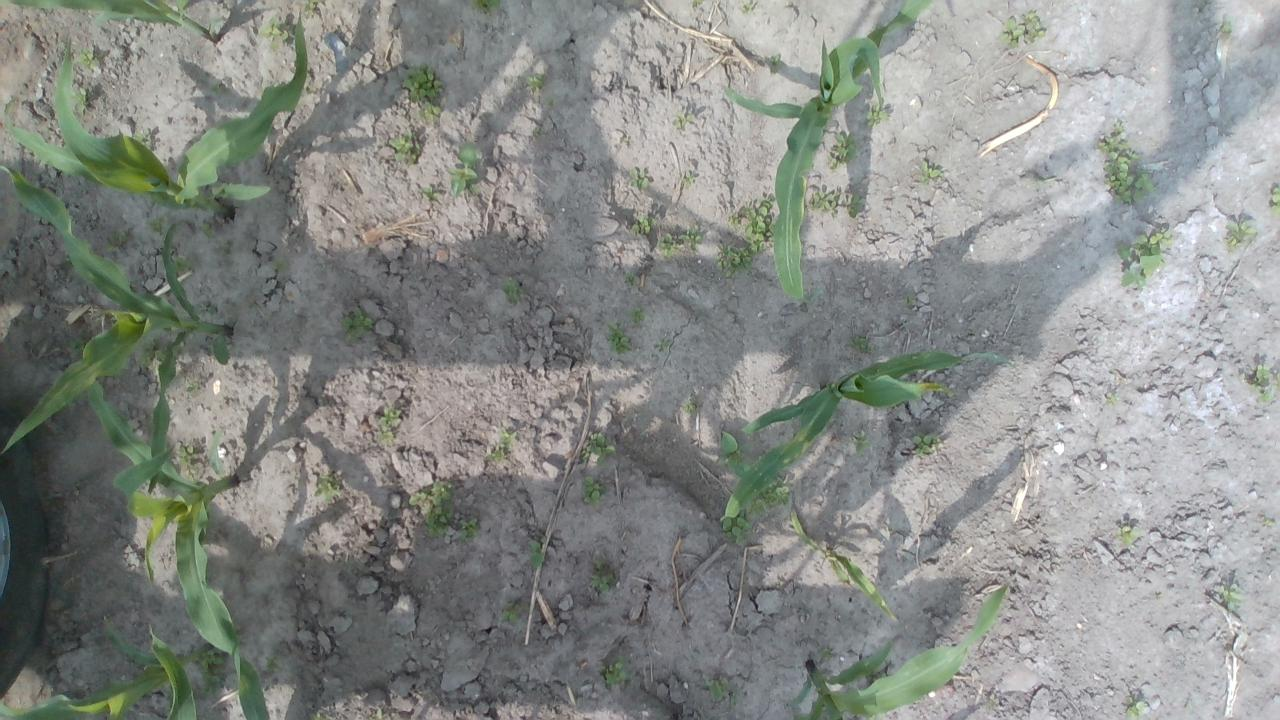Maize: (0, 164, 234, 497), (86, 337, 275, 720), (722, 0, 938, 304), (12, 12, 308, 220), (716, 348, 1017, 523), (788, 578, 1014, 720), (0, 617, 206, 720), (786, 502, 900, 626), (0, 0, 224, 42), (143, 623, 200, 720)
Weeds: (1096, 121, 1158, 206), (1116, 229, 1174, 291), (408, 480, 456, 538), (402, 64, 446, 125), (743, 197, 776, 256), (446, 141, 480, 195), (716, 428, 754, 476), (194, 646, 228, 698), (1000, 10, 1044, 50), (747, 474, 788, 514), (714, 241, 752, 278), (338, 306, 374, 345), (580, 432, 616, 468), (482, 427, 516, 463), (826, 131, 859, 168), (707, 676, 741, 710), (257, 17, 291, 51), (1224, 220, 1258, 254), (389, 132, 422, 166), (719, 509, 751, 544), (137, 336, 170, 368), (1249, 363, 1274, 405), (376, 404, 402, 444), (598, 654, 630, 686), (606, 320, 634, 356), (810, 187, 841, 218), (590, 558, 616, 594), (1218, 582, 1246, 612), (313, 469, 339, 501), (176, 444, 197, 482), (582, 476, 606, 508), (68, 86, 92, 116), (912, 430, 939, 456), (678, 226, 704, 252), (658, 232, 682, 259), (528, 535, 547, 569), (501, 278, 525, 303), (471, 0, 503, 18), (866, 102, 889, 127), (74, 48, 100, 70), (171, 254, 198, 275), (460, 518, 483, 542), (919, 160, 942, 184), (132, 127, 154, 152), (524, 72, 549, 94), (1116, 525, 1142, 546), (846, 336, 876, 354), (105, 229, 128, 252), (842, 194, 864, 218), (500, 603, 525, 623), (851, 430, 871, 455), (1124, 695, 1144, 720), (1026, 172, 1055, 188), (682, 395, 704, 415), (630, 168, 650, 190), (148, 214, 167, 237), (192, 301, 220, 316), (632, 214, 654, 233), (672, 110, 694, 127), (629, 306, 647, 326), (622, 268, 640, 288), (220, 238, 236, 260), (70, 338, 87, 358), (265, 654, 283, 672), (768, 54, 784, 74), (271, 255, 289, 272), (1270, 186, 1280, 216), (726, 212, 742, 230), (420, 186, 440, 200), (303, 0, 324, 13), (184, 378, 200, 395), (681, 171, 696, 189), (652, 339, 671, 352), (739, 0, 758, 13), (819, 646, 834, 662), (200, 221, 214, 238), (985, 694, 998, 709), (1105, 392, 1118, 406), (1223, 18, 1234, 34), (904, 292, 915, 307), (210, 80, 220, 94), (309, 711, 324, 720), (369, 711, 384, 720), (1262, 518, 1276, 527), (691, 0, 704, 7), (533, 127, 541, 137), (1276, 372, 1280, 390)
